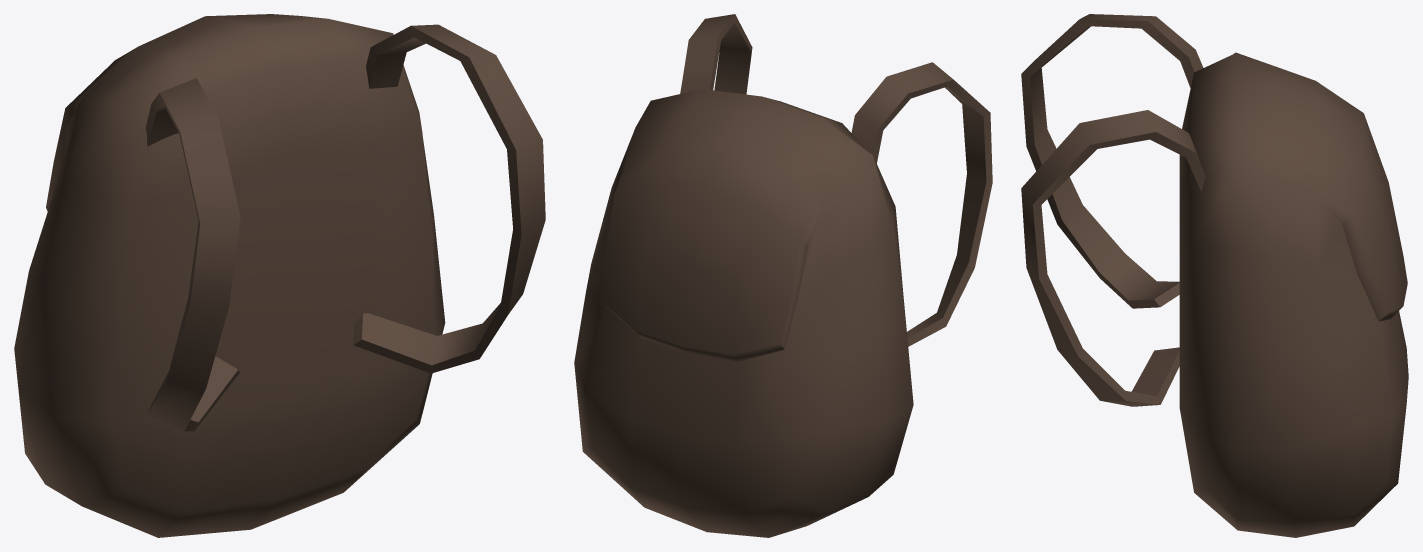
File: Bag_02.fbx
3 views of the same model, side by side, from view 1: azimuth 30°, elevation 25°; view 2: azimuth 150°, elevation 25°; view 3: azimuth 270°, elevation 25° (orthographic). The views are drawn at different scales.
Parts seen in each view (by area): view 1: bag_02; view 2: bag_02; view 3: bag_02.
Boxes of the visible parts, <box> form: bag_02: <box>14,14,545,537</box>; bag_02: <box>574,14,992,537</box>; bag_02: <box>1021,14,1408,537</box>.
Bounding box in the file's own units: 37.25 × 47.61 × 37.27.
